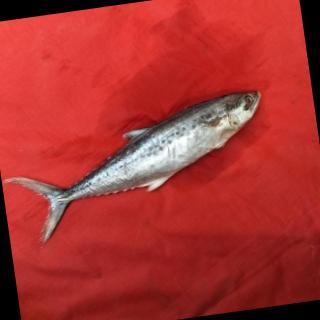Ikan: (5, 80, 291, 259)
